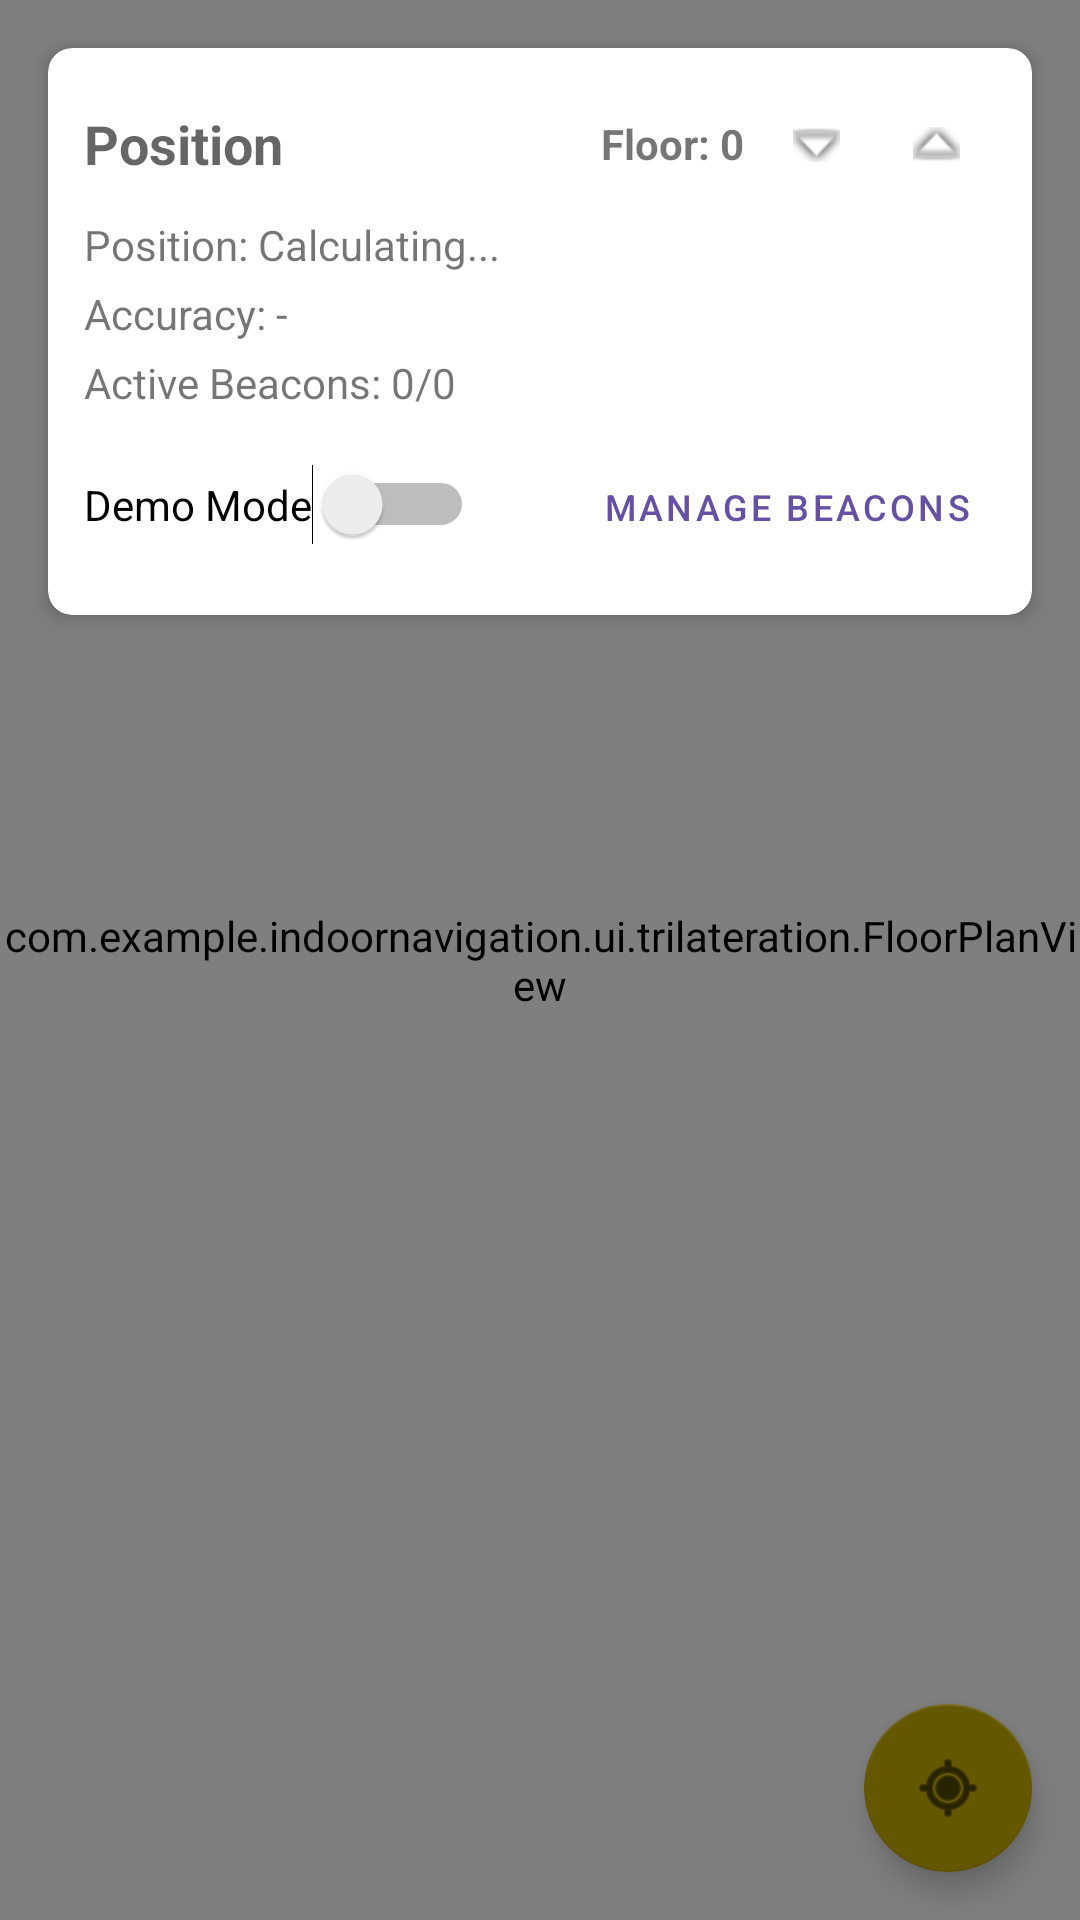

Icons on this 1080 x 1920 Android screen, each with its box as (x1, y1, x2, y2):
Center on position: (864, 1704, 1032, 1872)
Next floor: (913, 128, 960, 160)
Previous floor: (793, 129, 840, 161)
